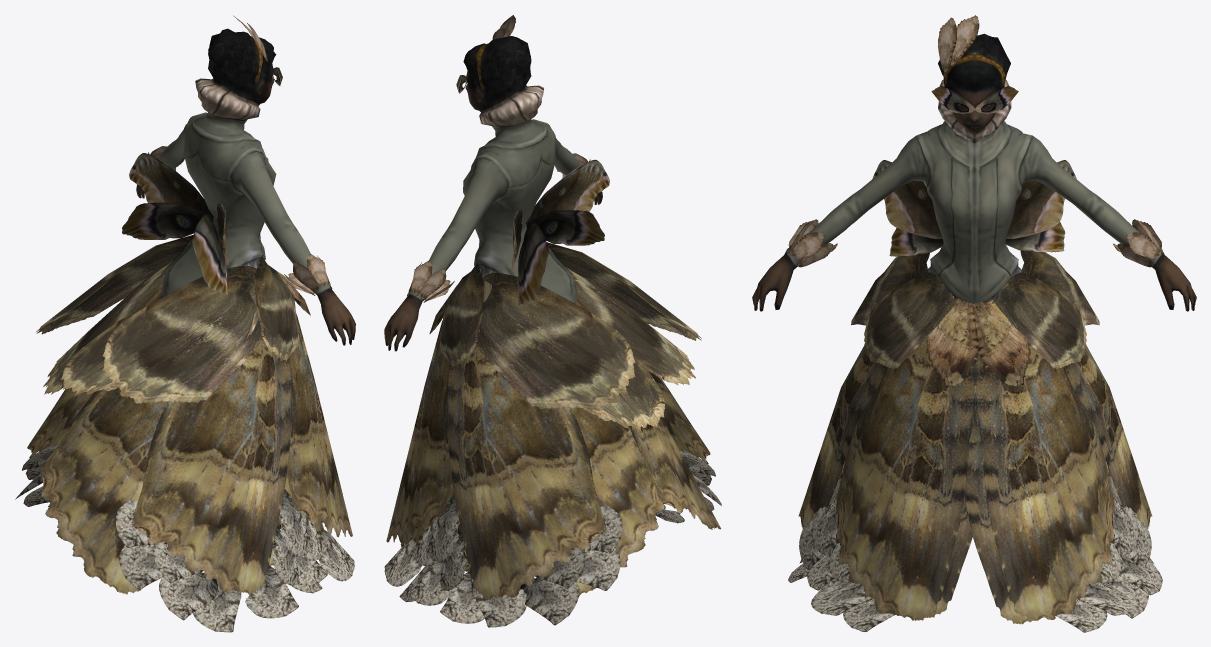
File: woman_npc.fbx
The picture shows the model from 3 angles, left to right: view 1: azimuth 30°, elevation 25°; view 2: azimuth 150°, elevation 25°; view 3: azimuth 270°, elevation 25°; orthographic projection. The views are drawn at different scales.
Parts seen in each view (by area): view 1: RetopoGroup2.002; view 2: RetopoGroup2.002; view 3: RetopoGroup2.002.
Boxes of the visible parts, bbox=[...] form: RetopoGroup2.002: bbox=[15, 15, 355, 632]; RetopoGroup2.002: bbox=[384, 15, 721, 627]; RetopoGroup2.002: bbox=[752, 15, 1196, 632].
Bounding box in the file's own units: 0.7737 × 1.46 × 0.9725.
